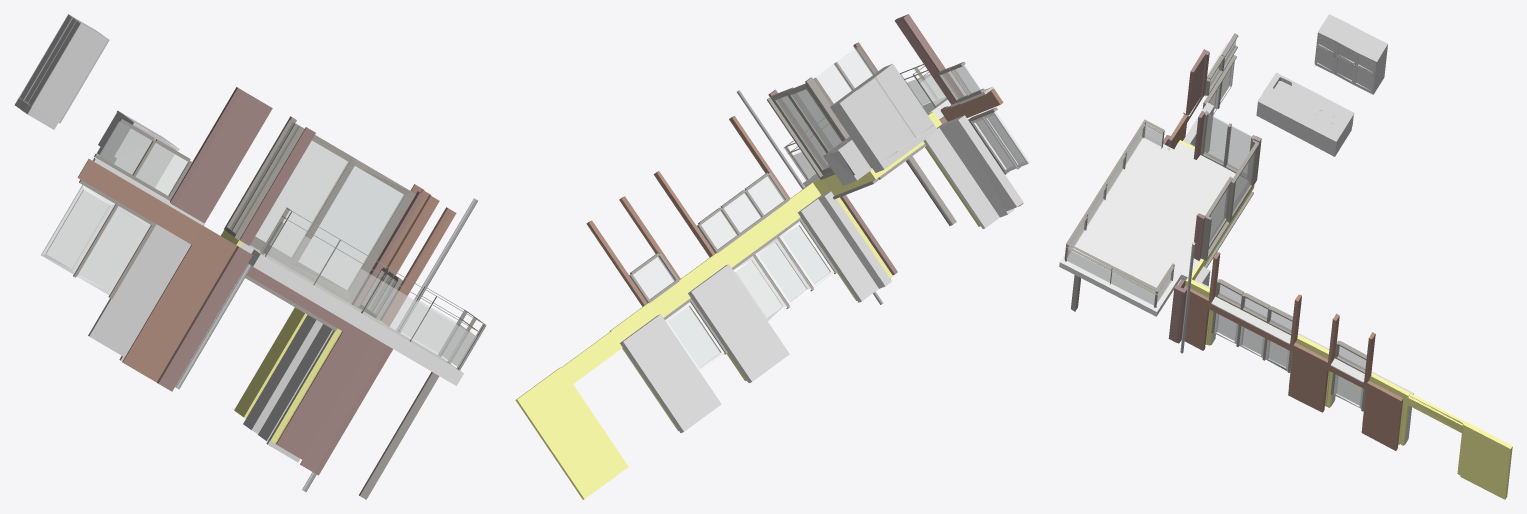
3 renders of one model, left to right at view 1: azimuth 30°, elevation 25°; view 2: azimuth 150°, elevation 25°; view 3: azimuth 270°, elevation 25°, orthographic. The views are drawn at different scales.
Visible parts, largest first — view 1: mesh; view 2: mesh; view 3: mesh.
Part boxes in pixels (x1,y1,x2,y2): mesh: (14, 14, 486, 499); mesh: (515, 14, 1030, 499); mesh: (1059, 14, 1512, 499).
Size of the model in its own units: 10.52 by 11.47 by 12.13.
